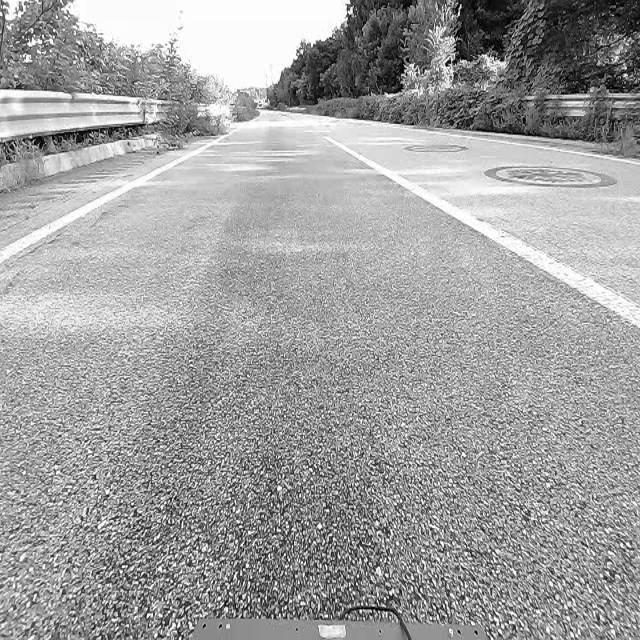Lane: (323, 128, 640, 330), (327, 138, 639, 328), (0, 118, 240, 267), (0, 131, 233, 267)
